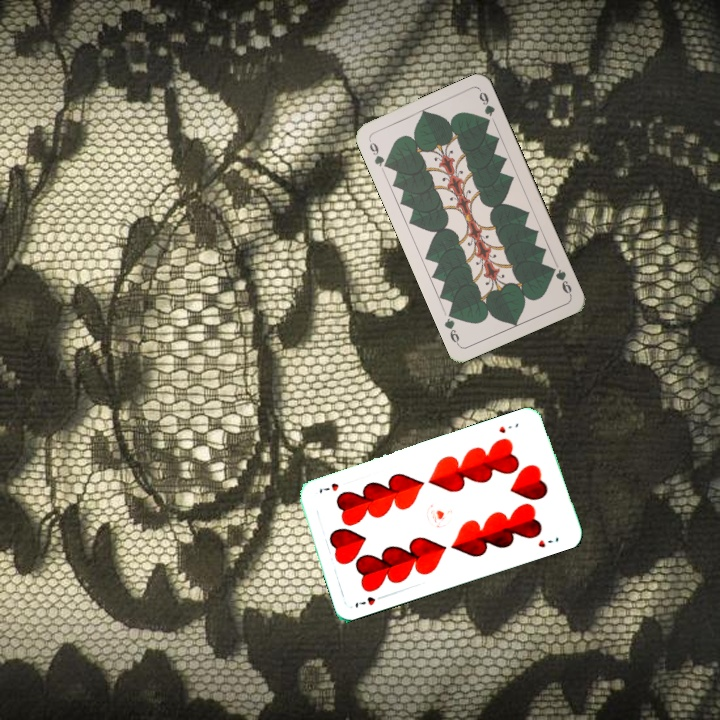G9: (546, 263, 574, 298), (365, 136, 392, 171)
H7: (351, 591, 388, 610), (495, 419, 521, 436)
